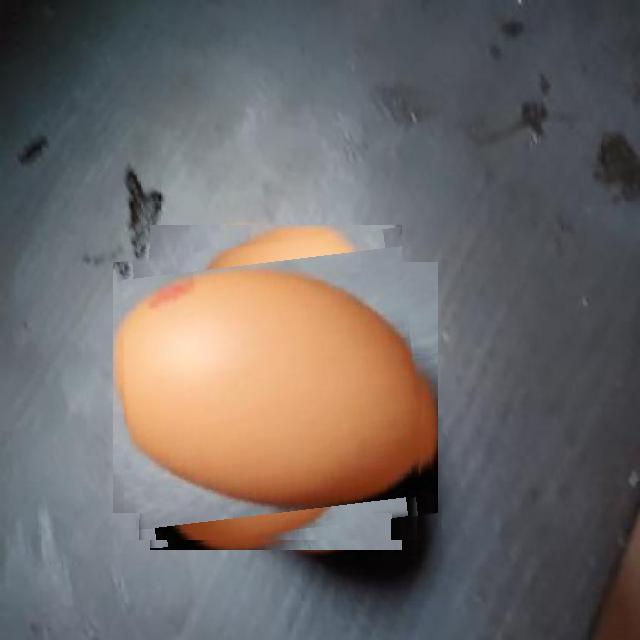biodegradable: (124, 235, 428, 540)
